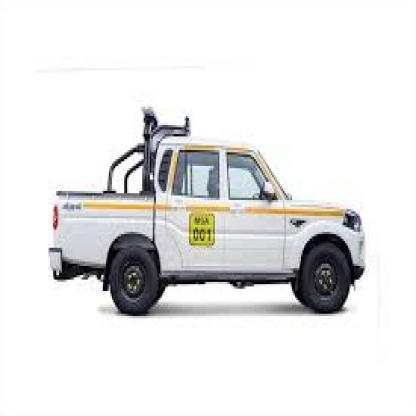light_vehicle: (38, 100, 366, 327)
